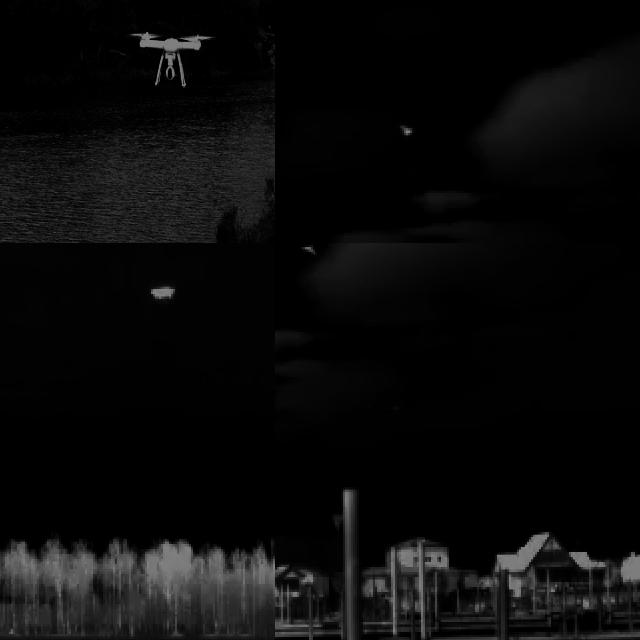0: (392, 116, 420, 148), (295, 243, 317, 267)
1: (138, 279, 182, 311)
drone: (136, 27, 204, 95)
